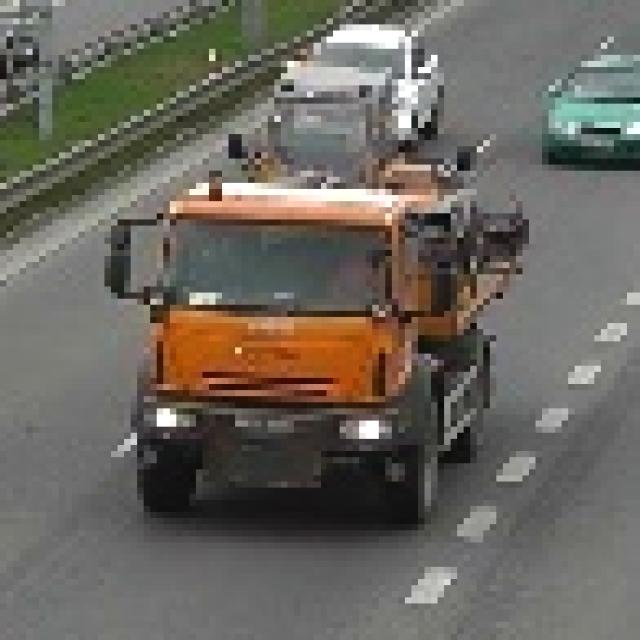truck: (112, 159, 517, 513)
